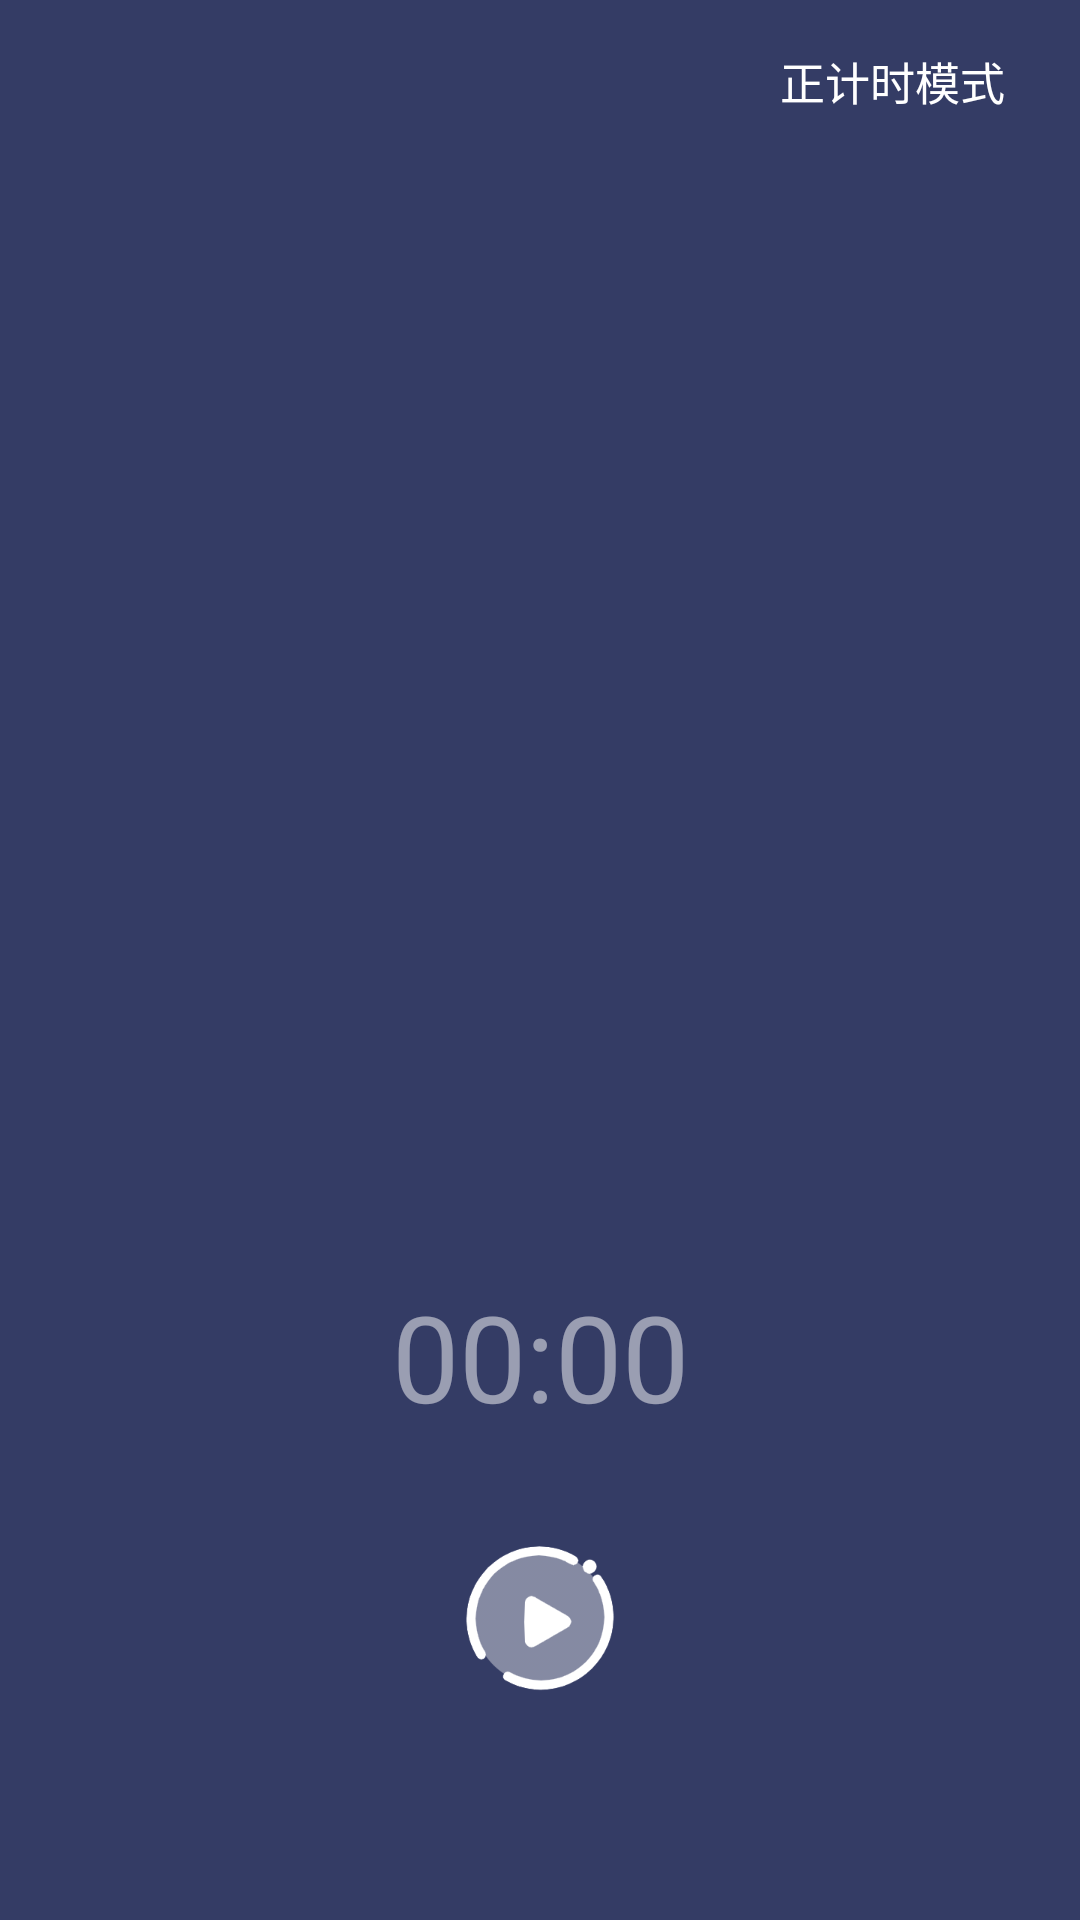

Icons on this 1080×1920 Android screen, each with the point to tap as [x,y]:
start: [540,1618]
